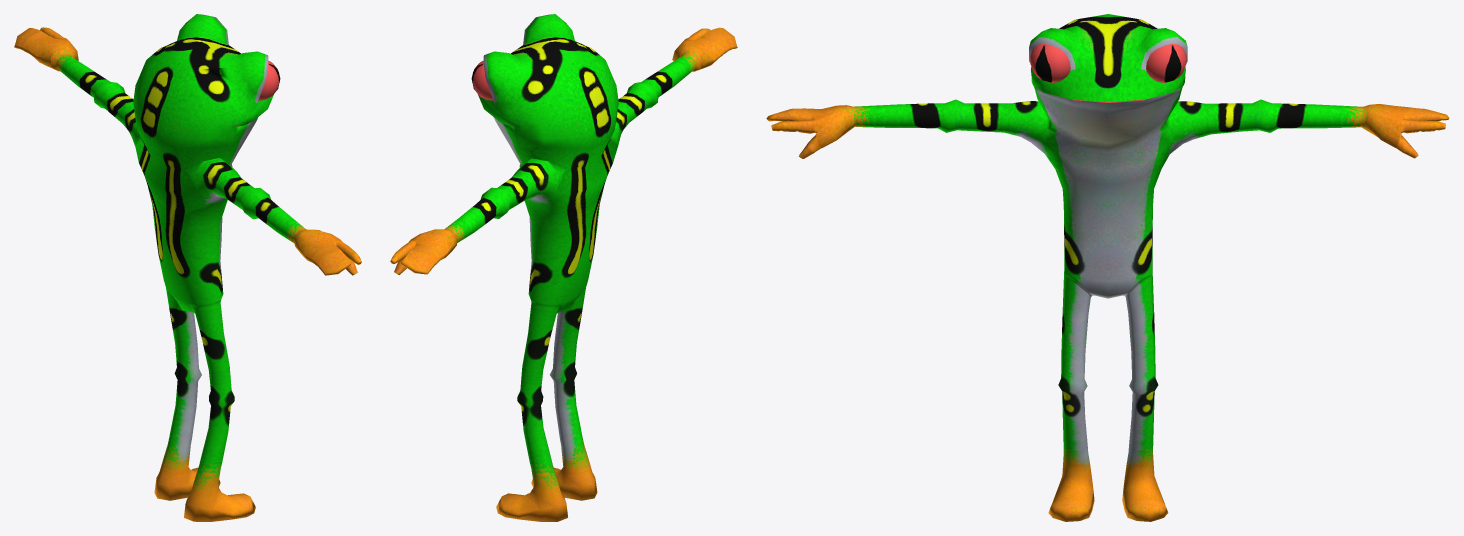
Rendered from Frog Man.glb.
3 views of the same model, side by side, from view 1: azimuth 30°, elevation 25°; view 2: azimuth 150°, elevation 25°; view 3: azimuth 270°, elevation 25° (orthographic). The views are drawn at different scales.
Parts seen in each view (by area): view 1: mesh_char_104_1; view 2: mesh_char_104_1; view 3: mesh_char_104_1.
Boxes of the visible parts, box(x1,y1,x2,y2) form: mesh_char_104_1: box(14, 14, 361, 521); mesh_char_104_1: box(390, 14, 737, 521); mesh_char_104_1: box(766, 14, 1449, 521).
Bounding box in the file's own units: 1.08 × 3.95 × 5.02.
1 material, 1 textured.
